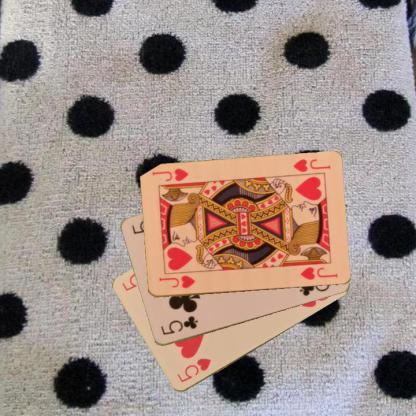5c: (158, 313, 199, 337)
5h: (174, 355, 212, 384)
Jh: (288, 157, 332, 178), (156, 273, 196, 290)
